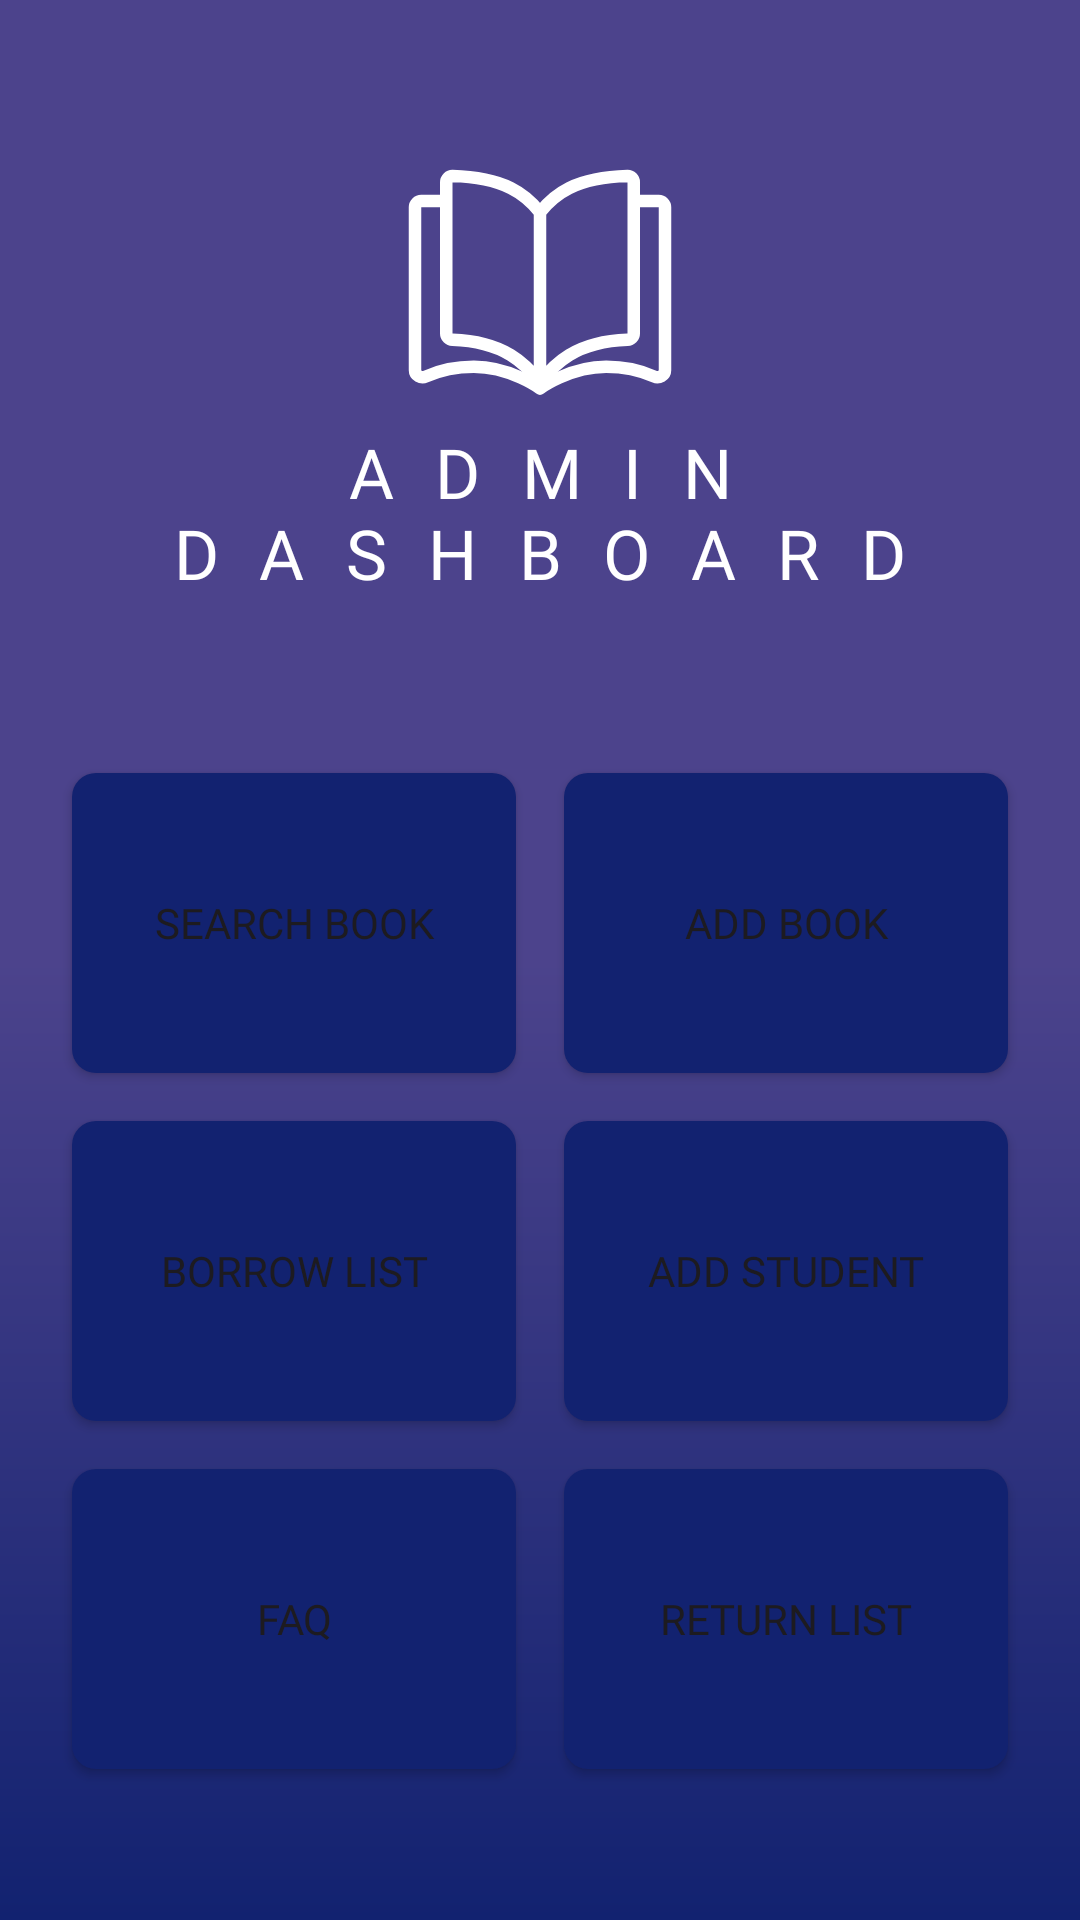

Screen size 1080×1920. Icon name, then its box in pixels as box(x1, y1, x2, y2):
book: box(408, 169, 672, 395)
